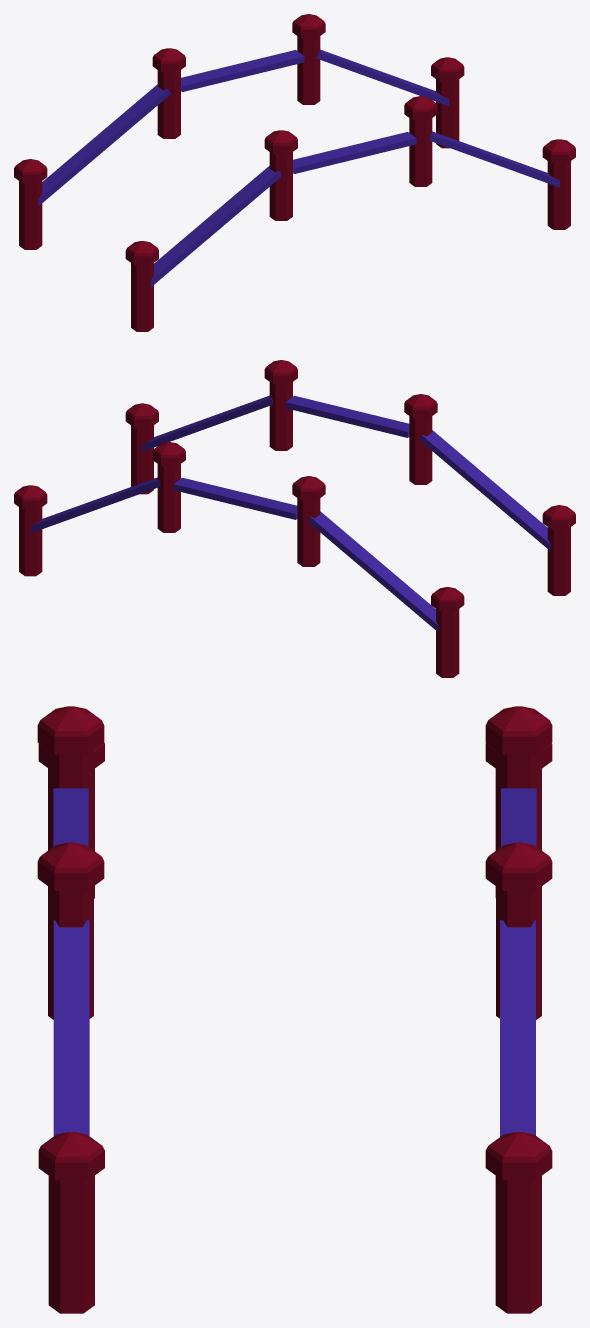
The model's file is Brücke_Geländer.FBX.
3 renders of one model, top to bottom at view 1: azimuth 30°, elevation 25°; view 2: azimuth 150°, elevation 25°; view 3: azimuth 270°, elevation 25°, orthographic. The views are drawn at different scales.
Parts seen in each view (by area): view 1: Brücke_Geländer; view 2: Brücke_Geländer; view 3: Brücke_Geländer.
Boxes of the visible parts, x1,y1,x2,y2 form: Brücke_Geländer: (14, 14, 575, 331); Brücke_Geländer: (14, 360, 575, 677); Brücke_Geländer: (37, 706, 552, 1313).
Size of the model in its own units: 89.14 by 31.41 by 44.94.
